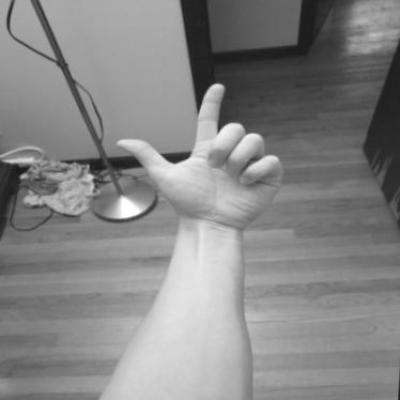hand: (107, 77, 293, 241)
